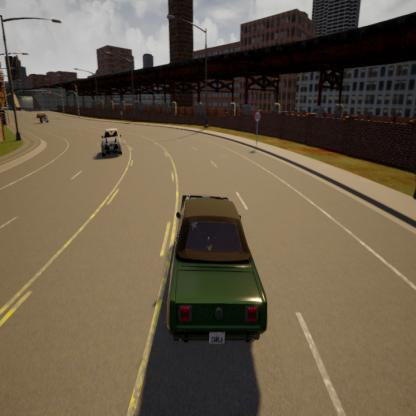Cars: (165, 194, 268, 350), (101, 128, 122, 156), (39, 115, 51, 127), (36, 112, 45, 124)
